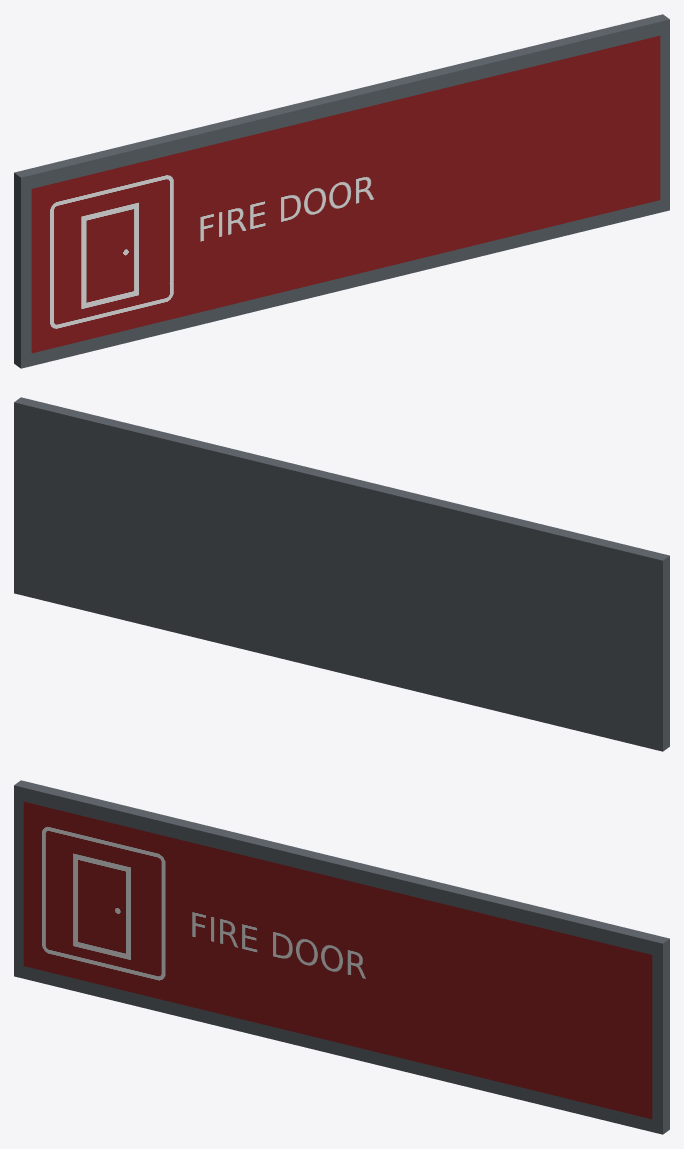
The model's file is 13_wall_fire_door.glb.
3 renders of one model, top to bottom at view 1: azimuth 30°, elevation 25°; view 2: azimuth 150°, elevation 25°; view 3: azimuth 330°, elevation 25°, orthographic.
Visible parts, largest first — view 1: Sign_Face, Housing; view 2: Housing; view 3: Sign_Face, Housing.
Part boxes in pixels (<box>): Sign_Face: <box>31,35,660,353</box>; Housing: <box>14,14,669,368</box>; Housing: <box>14,397,669,751</box>; Sign_Face: <box>23,801,652,1119</box>; Housing: <box>14,780,669,1134</box>.
Bounding box in the file's own units: 0.64 × 0.18 × 0.013.
2 materials, 1 textured.
